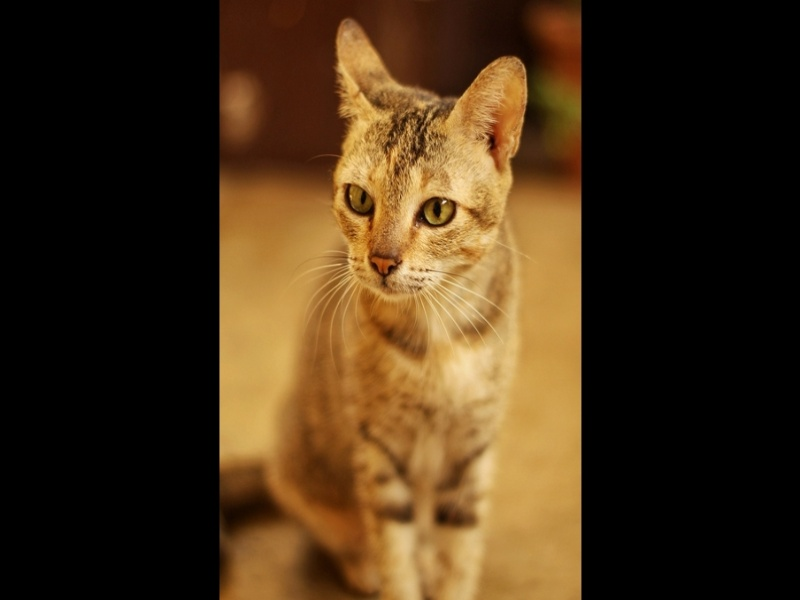cat: (247, 19, 531, 592)
